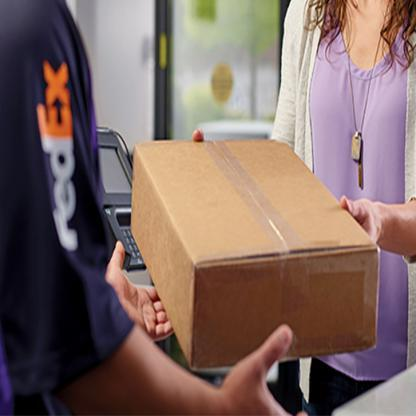package: (129, 138, 380, 374)
